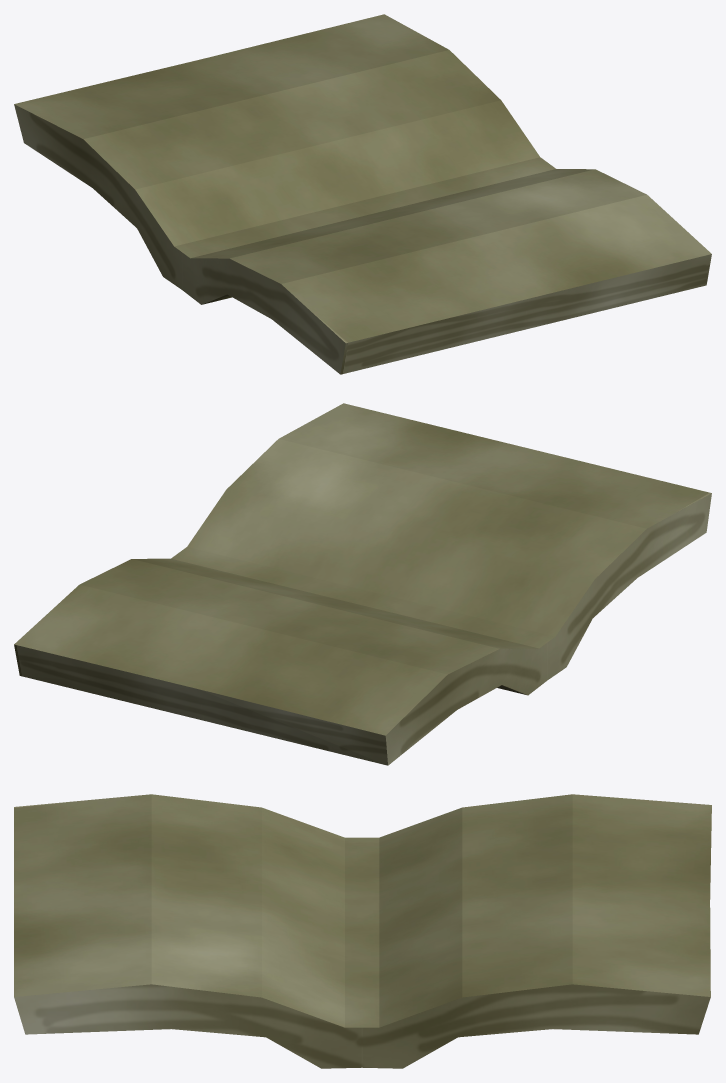
The model's file is book.fbx.
3 renders of one model, top to bottom at view 1: azimuth 30°, elevation 25°; view 2: azimuth 150°, elevation 25°; view 3: azimuth 270°, elevation 25°, orthographic. The views are drawn at different scales.
Parts seen in each view (by area): view 1: book; view 2: book; view 3: book.
Boxes of the visible parts, box(x1,y1,x2,y2) form: book: box(14, 14, 711, 374); book: box(14, 403, 711, 765); book: box(14, 794, 711, 1068).
Size of the model in its own units: 36.04 by 7.38 by 55.36.
1 material, 1 textured.
